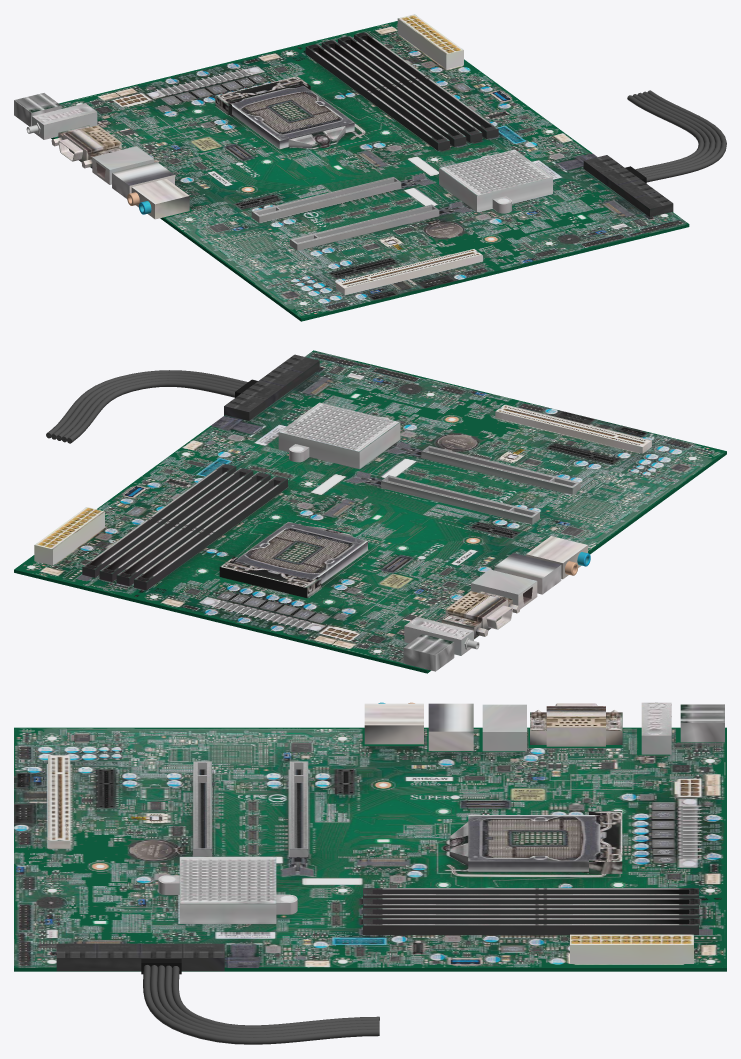
File: motherboard.fbx
The picture shows the model from 3 angles, top to bottom: view 1: azimuth 30°, elevation 25°; view 2: azimuth 150°, elevation 25°; view 3: azimuth 270°, elevation 25°; orthographic projection. The views are drawn at different scales.
Parts seen in each view (by area): view 1: Solid_782, BezierCurve; view 2: Solid_782, BezierCurve; view 3: Solid_782, BezierCurve.
Boxes of the visible parts, bbox=[...] form: Solid_782: bbox=[14, 14, 689, 321]; BezierCurve: bbox=[627, 90, 726, 182]; Solid_782: bbox=[14, 350, 726, 673]; BezierCurve: bbox=[46, 370, 247, 443]; Solid_782: bbox=[14, 702, 726, 971]; BezierCurve: bbox=[143, 965, 379, 1044].
Bounding box in the file's own units: 635 × 22.13 × 587.
